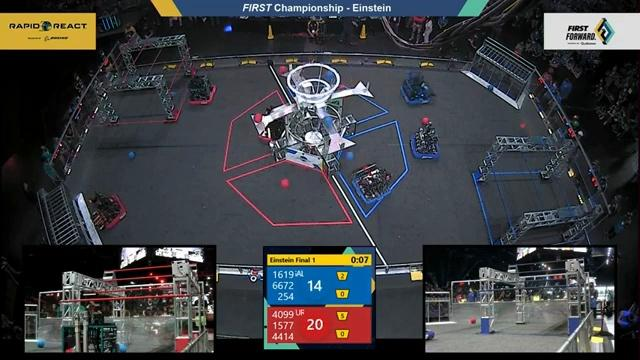robot: (83, 189, 129, 234), (349, 160, 395, 203), (408, 114, 445, 161), (253, 103, 293, 144), (399, 69, 437, 107), (183, 70, 217, 107), (117, 342, 128, 353)
